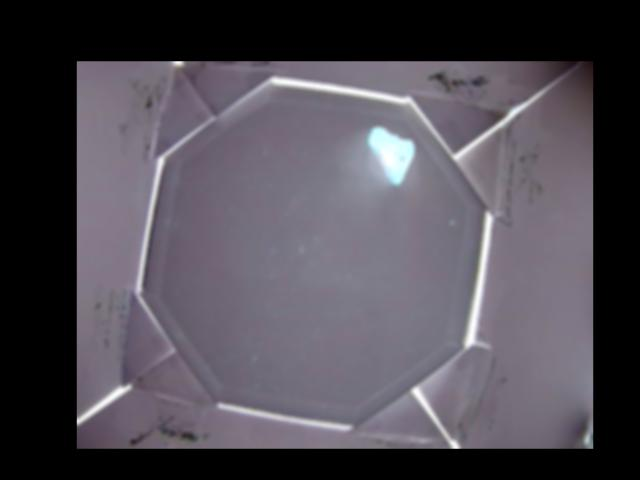Brisk: (368, 127, 415, 183)
